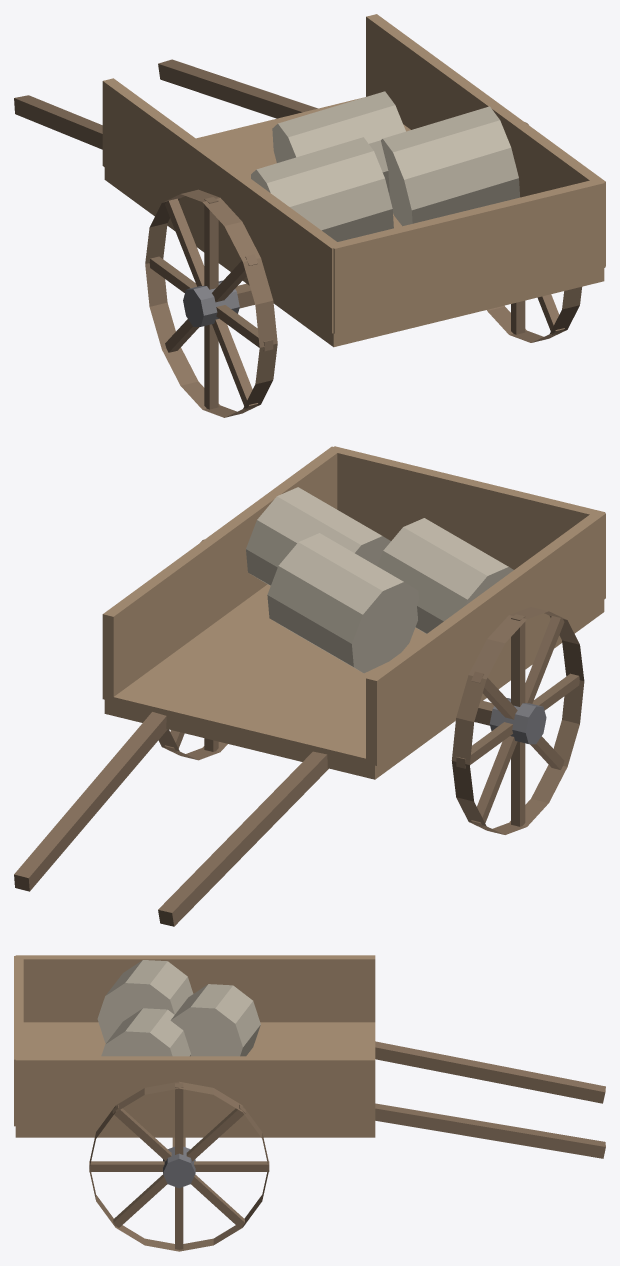
Rendered from cart.glb.
3 views of the same model, one above another, from view 1: azimuth 30°, elevation 25°; view 2: azimuth 150°, elevation 25°; view 3: azimuth 270°, elevation 25° (orthographic). The views are drawn at different scales.
Parts seen in each view (by area): view 1: cart; view 2: cart; view 3: cart.
Boxes of the visible parts, x1,y1,x2,y2 form: cart: (14, 14, 605, 417); cart: (14, 446, 605, 926); cart: (14, 955, 605, 1251).
Size of the model in its own units: 1.9 by 1.33 by 3.62.
